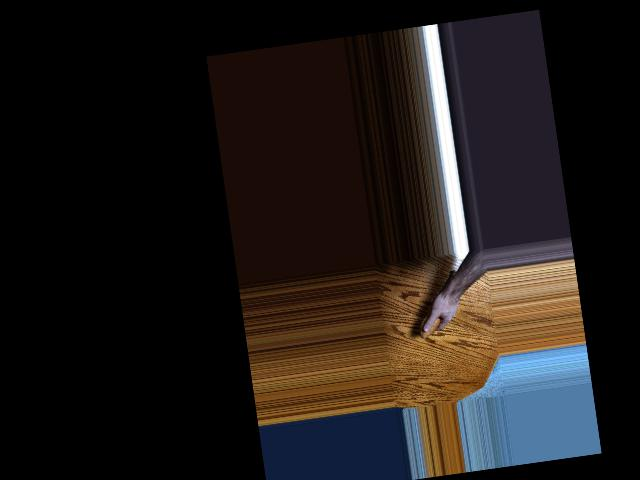sweet_potato: (411, 267, 465, 338)
